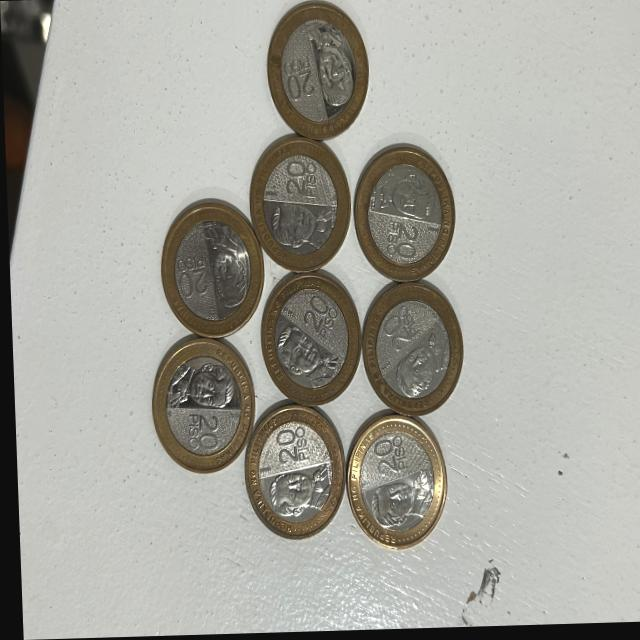20_New_Front: (175, 407, 228, 468), (168, 237, 214, 304), (274, 50, 318, 117), (362, 424, 412, 479), (263, 420, 315, 472), (296, 290, 340, 351), (377, 305, 426, 352), (273, 162, 320, 209), (381, 219, 422, 255)
